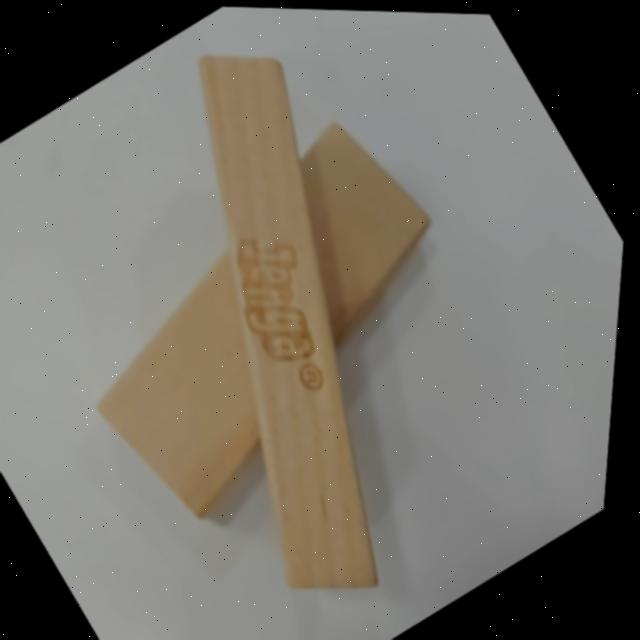Jenga: (9, 12, 570, 632), (23, 88, 521, 545)
